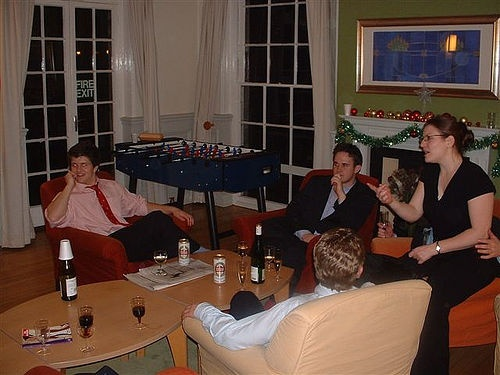head: (308, 225, 365, 298), (420, 113, 476, 164), (66, 141, 104, 186), (331, 142, 363, 184)
person: (366, 114, 495, 374), (185, 221, 374, 355), (230, 141, 379, 293), (46, 138, 205, 276)
